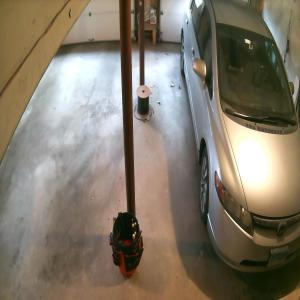honda civic: (180, 0, 300, 273)
tool bucket: (110, 210, 144, 276)
